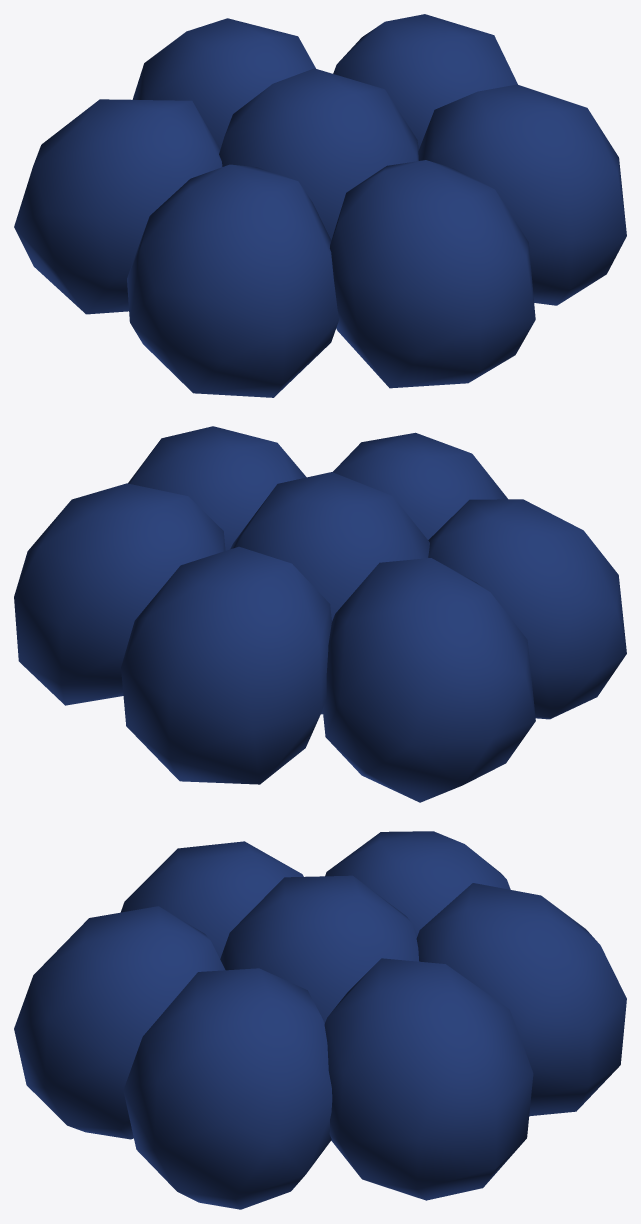
The model's file is Blueberries.fbx.
3 renders of one model, top to bottom at view 1: azimuth 30°, elevation 25°; view 2: azimuth 150°, elevation 25°; view 3: azimuth 270°, elevation 25°, orthographic. The views are drawn at different scales.
Visible parts, largest first — view 1: Sphere; view 2: Sphere; view 3: Sphere.
Boxes of the visible parts, bbox=[...] form: Sphere: bbox=[14, 14, 626, 397]; Sphere: bbox=[14, 426, 626, 802]; Sphere: bbox=[14, 831, 626, 1209].
Size of the model in its own units: 87.57 by 39.42 by 92.69.
